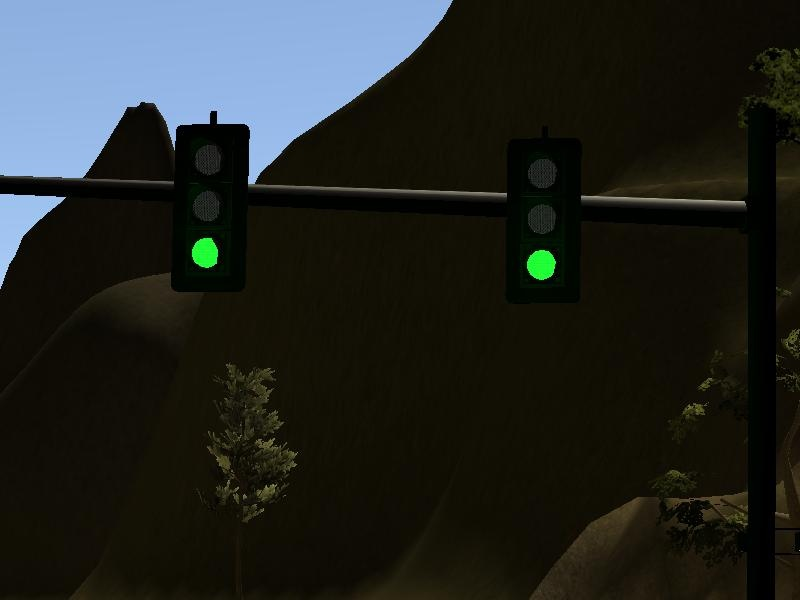green: (170, 108, 266, 306), (506, 119, 592, 315)
